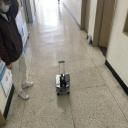cart: (56, 73, 70, 96)
